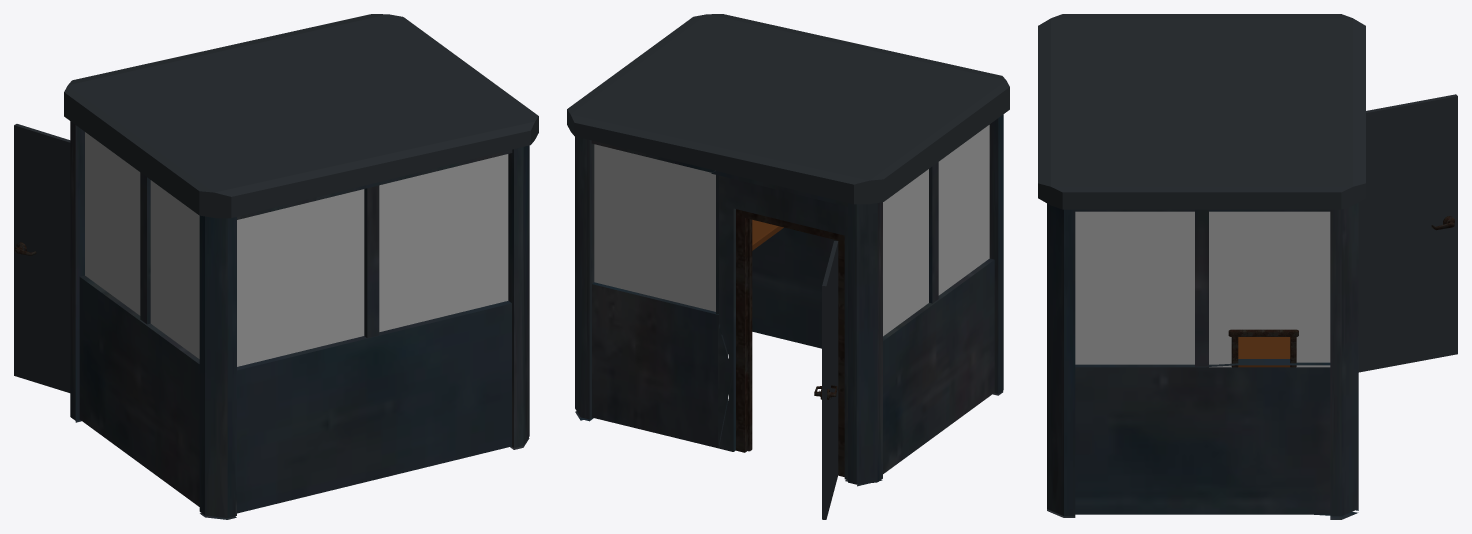
The model's file is security-booth.zfix-v14.lod1.glb.
3 renders of one model, left to right at view 1: azimuth 30°, elevation 25°; view 2: azimuth 150°, elevation 25°; view 3: azimuth 270°, elevation 25°, orthographic. The views are drawn at different scales.
Parts seen in each view (by area): view 1: Object_5, Object_8; view 2: Object_5, Object_8, Object_4; view 3: Object_5, Object_8, Object_4.
Part boxes in pixels (<box>): Object_5: <box>14,14,538,392</box>; Object_8: <box>70,121,529,519</box>; Object_5: <box>567,14,1009,519</box>; Object_8: <box>575,114,1003,486</box>; Object_4: <box>736,209,844,476</box>; Object_5: <box>1038,14,1457,372</box>; Object_8: <box>1047,202,1358,519</box>; Object_4: <box>1228,216,1454,367</box>.
Size of the model in its own units: 2.88 by 2.68 by 3.
Materials: 3 (2 with a texture image).
